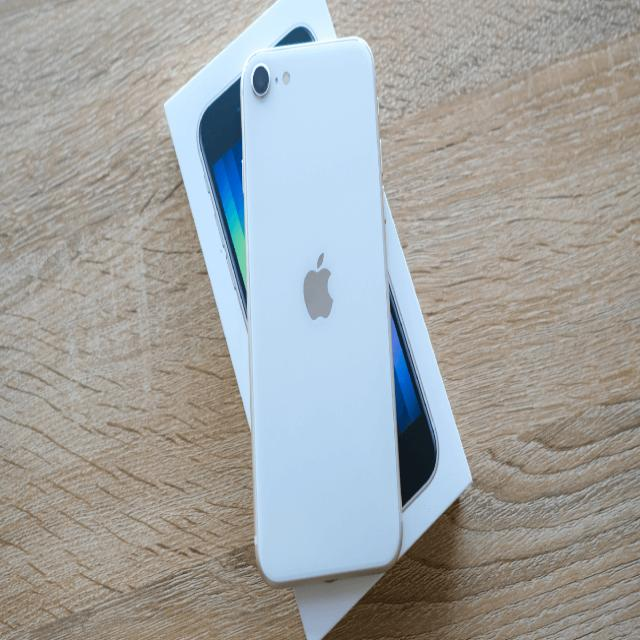mobile phone: (227, 33, 415, 591)
